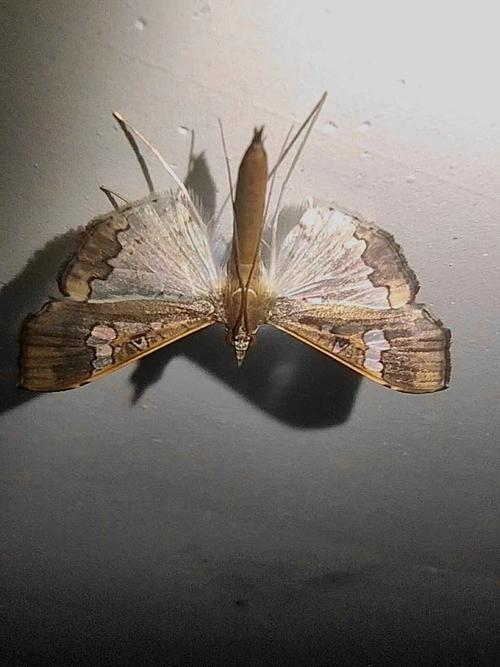Noctuidae: (16, 96, 452, 402)
